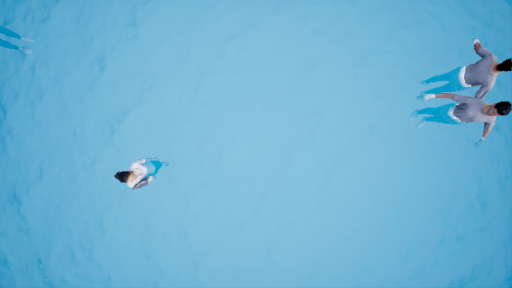person: (420, 37, 512, 96), (406, 91, 512, 141), (108, 152, 174, 198)
